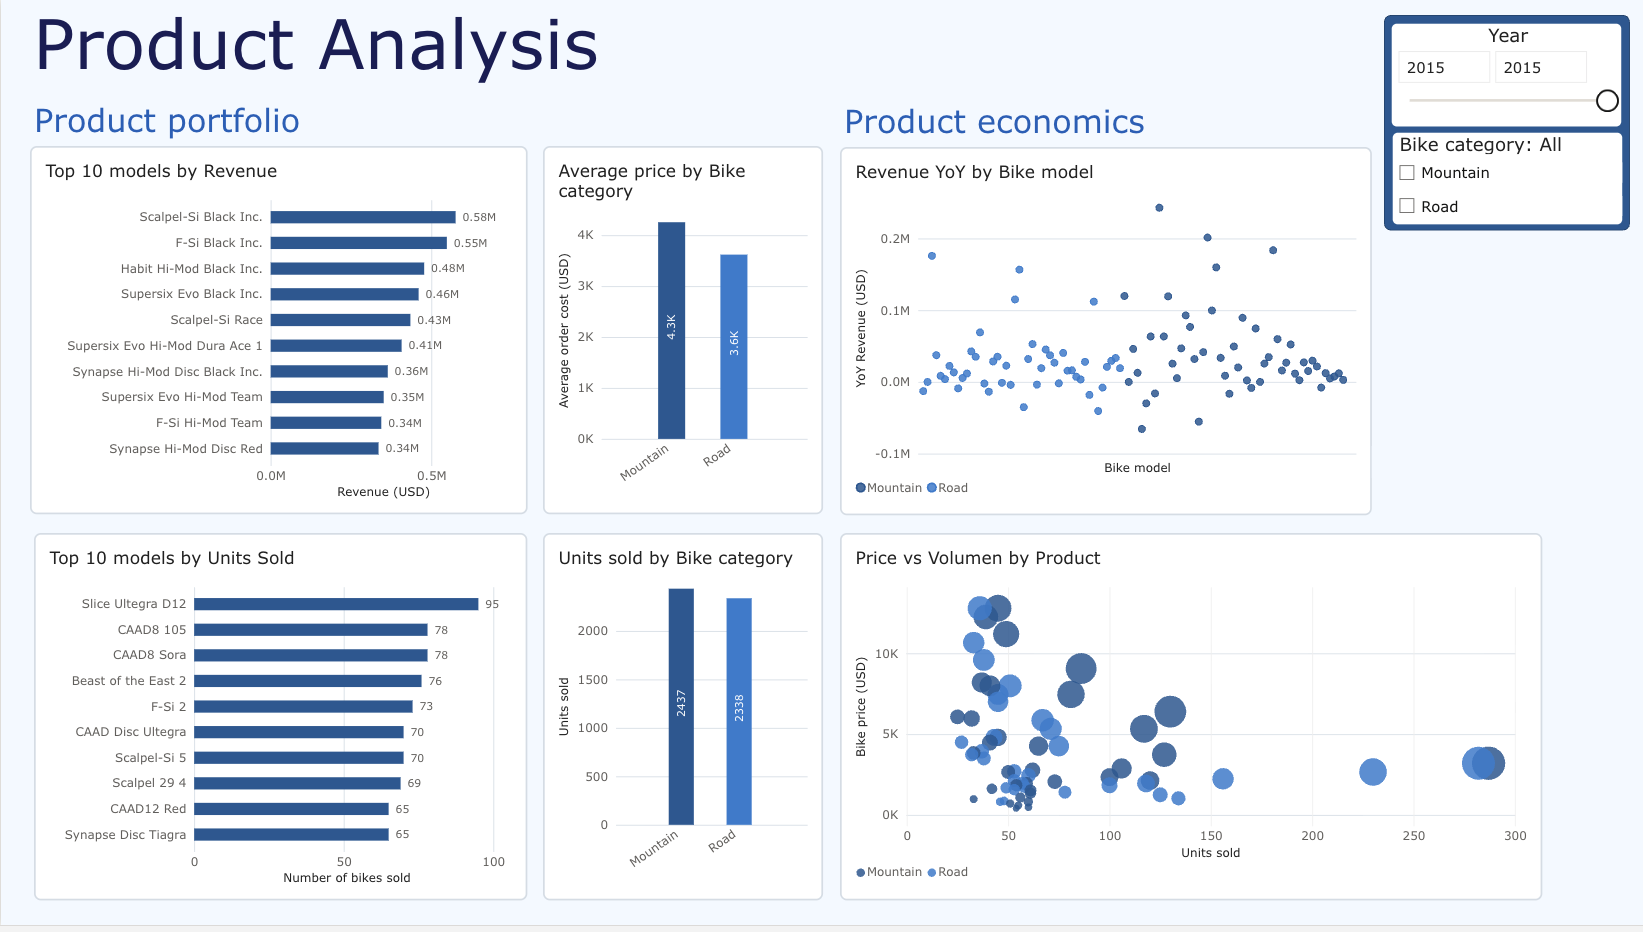

This screenshot's page, from the dashboard's own definition file:
{"tool":"powerbi","page":{"name":"Product Analysis","canvas":[1920,1080],"ordinal":2},"visuals":[{"type":"barChart","title":"Top 10 models by Revenue","fields":{"Category":["bikes.model"],"Y":["orders.Revenue"]},"box":[33.9,171,580.9,430],"z":0},{"type":"scatterChart","title":"Price vs Volumen by Product","fields":{"Series":["bikes.category1"],"Size":["orders.Revenue"],"X":["Sum(orders.quantity)"],"Y":["bikes.price"]},"box":[979.2,622,820,428.8],"z":1000},{"type":"textbox","box":[37.7,0,1882.1,115.7],"z":2000},{"type":"shape","box":[1615,17.8,287.2,251.6],"z":3000},{"type":"slicer","title":"Year","fields":{"Values":["Calendar.Year"]},"box":[1621.8,25.5,272.1,123.9],"z":4000},{"type":"slicer","fields":{"Values":["bikes.category1"]},"box":[1623.2,153.2,272.1,110.8],"z":5000},{"type":"barChart","title":"Top 10 models by Units Sold","fields":{"Category":["bikes.model"],"Y":["Sum(orders.quantity)"]},"box":[38.9,622,575.8,428.8],"z":6000},{"type":"textbox","box":[38,116,514,54],"z":7000},{"type":"textbox","box":[984.6,116.2,451.3,58.8],"z":8000},{"type":"columnChart","title":"Average price by Bike category","fields":{"Category":["bikes.category1","bikes.category2"],"Series":["bikes.category1"],"Y":["Avg(bikes.price)"]},"box":[632.4,171,326.9,430],"z":9000},{"type":"columnChart","title":"Units sold by Bike category","fields":{"Category":["bikes.category1","bikes.category2"],"Series":["bikes.category1"],"Y":["Sum(orders.quantity)"]},"box":[632.4,622.4,326.9,428.7],"z":10000},{"type":"scatterChart","title":"Revenue YoY by Bike model","fields":{"Series":["bikes.category1"],"X":["bikes.bike.id"],"Y":["orders.Revenue YoY"]},"box":[979.2,172,620.5,428.3],"z":11001}]}

Visuals, with their boxes in screenshot pixels (x1, y1, x2, y2), scaled from the page's 1920x1080 canvas onto the 1643x932 screenshot:
"Top 10 models by Revenue" barChart: (x1=29, y1=148, x2=526, y2=519)
"Price vs Volumen by Product" scatterChart: (x1=838, y1=537, x2=1540, y2=907)
textbox: (x1=32, y1=0, x2=1642, y2=100)
shape: (x1=1382, y1=15, x2=1628, y2=232)
"Year" slicer: (x1=1388, y1=22, x2=1621, y2=129)
slicer - bikes.category1: (x1=1389, y1=132, x2=1622, y2=228)
"Top 10 models by Units Sold" barChart: (x1=33, y1=537, x2=526, y2=907)
textbox: (x1=33, y1=100, x2=472, y2=147)
textbox: (x1=843, y1=100, x2=1229, y2=151)
"Average price by Bike category" columnChart: (x1=541, y1=148, x2=821, y2=519)
"Units sold by Bike category" columnChart: (x1=541, y1=537, x2=821, y2=907)
"Revenue YoY by Bike model" scatterChart: (x1=838, y1=148, x2=1369, y2=518)
